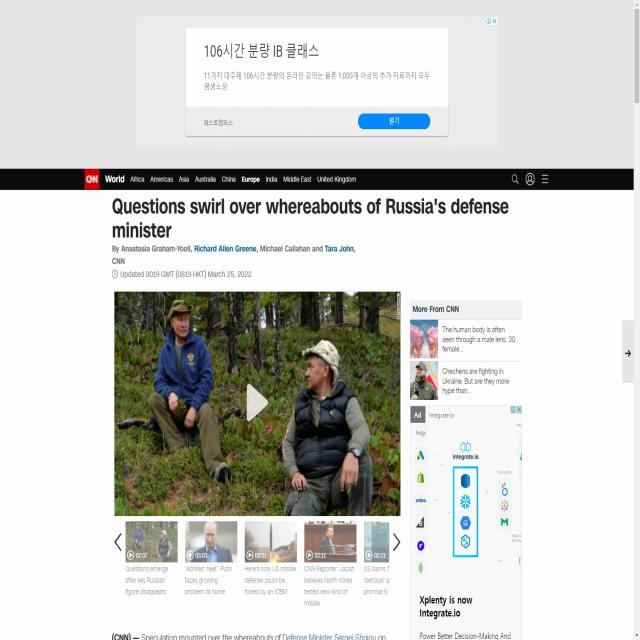menu-bar: (102, 169, 362, 189), (509, 169, 552, 189)
side-panel: (408, 298, 525, 401)
